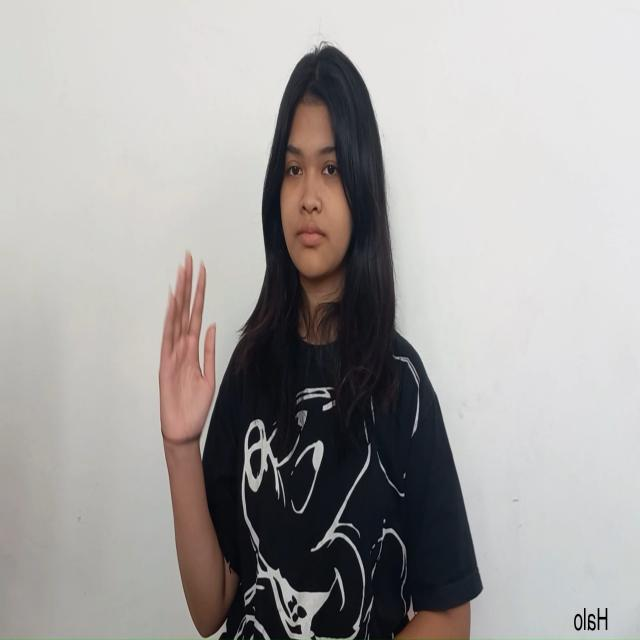Halo -BISINDO-: (158, 250, 216, 458)
